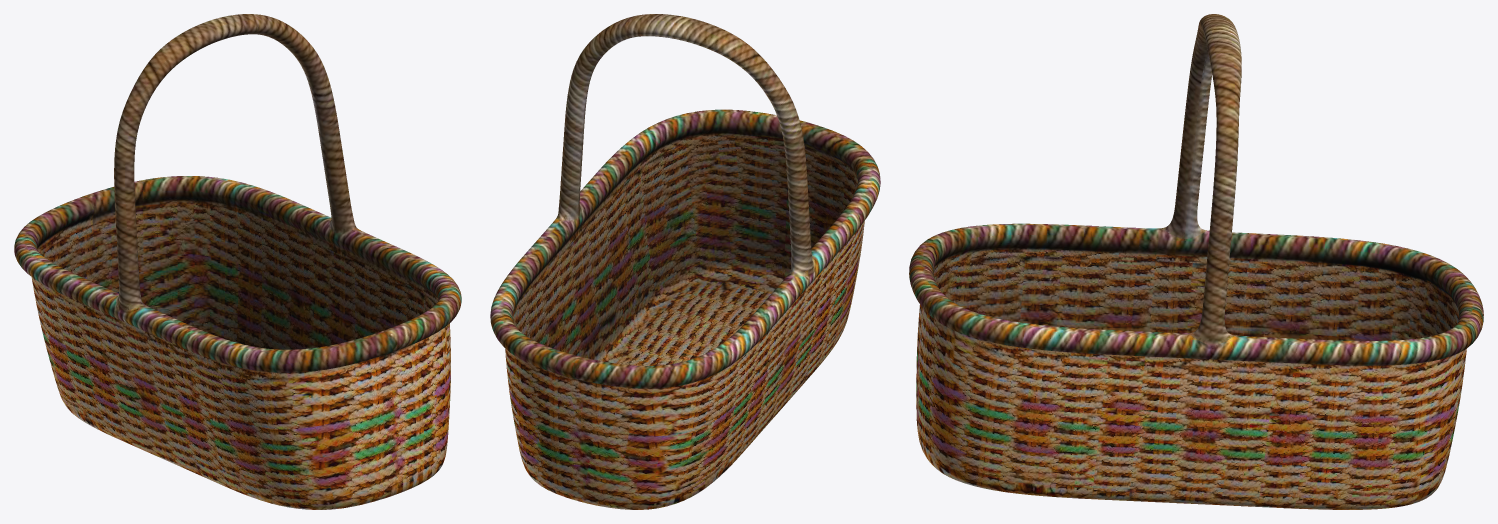
File: prueba2.glb
3 views of the same model, side by side, from view 1: azimuth 30°, elevation 25°; view 2: azimuth 150°, elevation 25°; view 3: azimuth 270°, elevation 25° (orthographic). The views are drawn at different scales.
Parts seen in each view (by area): view 1: 10431_Wicker_Basket_v1_L3; view 2: 10431_Wicker_Basket_v1_L3; view 3: 10431_Wicker_Basket_v1_L3.
Part boxes in pixels (x1,y1,x2,y2): 10431_Wicker_Basket_v1_L3: (14,14,461,509); 10431_Wicker_Basket_v1_L3: (490,14,880,509); 10431_Wicker_Basket_v1_L3: (909,14,1483,509).
Bounding box in the file's own units: 30.89 × 47.08 × 54.54.
1 material, 1 textured.
